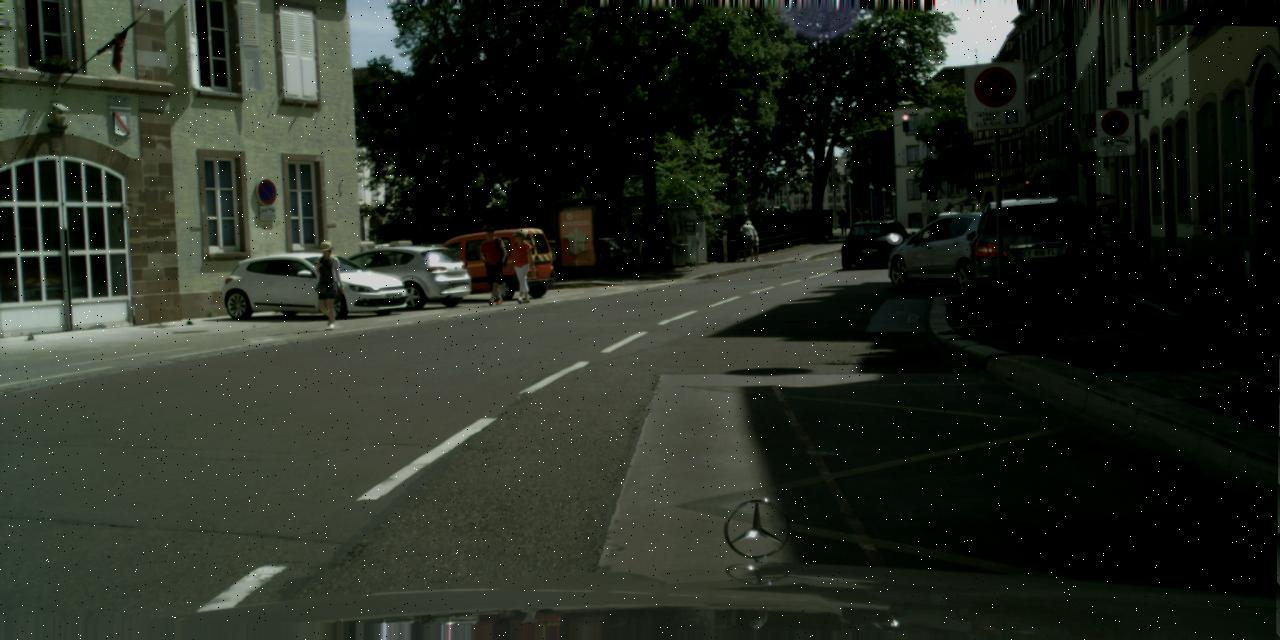ped: (309, 238, 346, 329), (476, 226, 508, 304), (506, 228, 536, 302), (740, 220, 756, 260), (850, 207, 862, 236), (750, 230, 761, 260), (858, 207, 869, 236), (838, 207, 848, 235), (779, 201, 787, 220)
